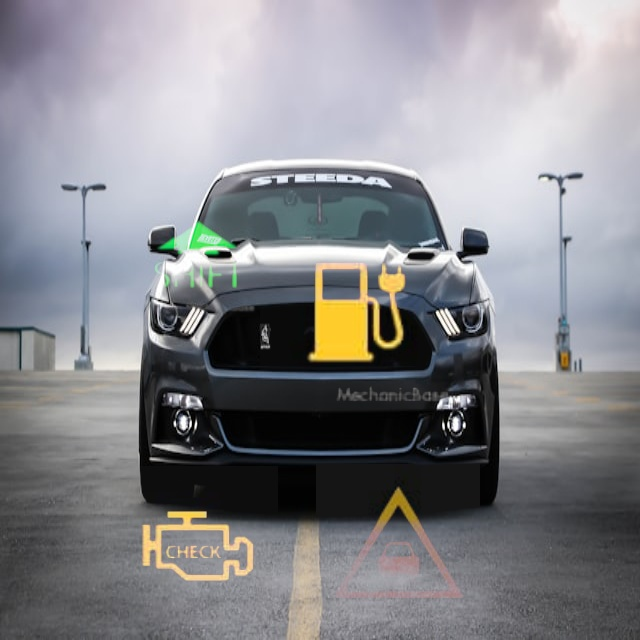symbol: (260, 215, 456, 411), (316, 464, 480, 628), (116, 466, 278, 628), (138, 196, 259, 317)
